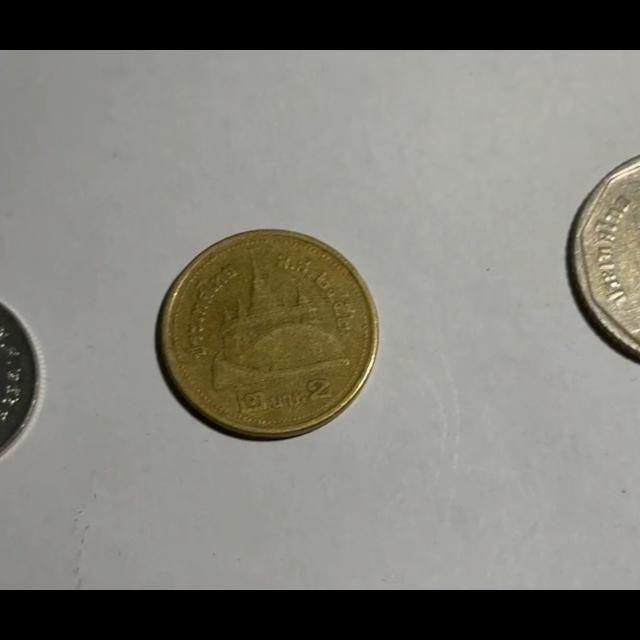1-baht: (0, 283, 43, 483)
2-baht: (158, 231, 378, 440)
5-baht: (555, 139, 640, 382)
